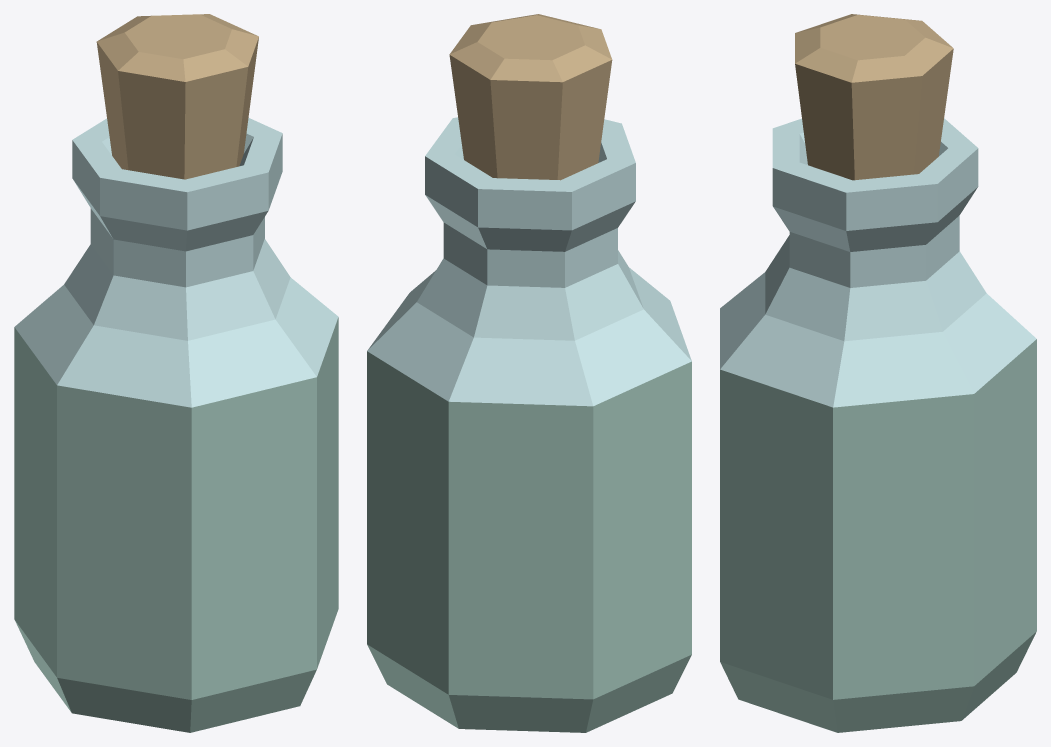
Rendered from Super-Cola.fbx.
The picture shows the model from 3 angles, left to right: view 1: azimuth 30°, elevation 25°; view 2: azimuth 150°, elevation 25°; view 3: azimuth 270°, elevation 25°; orthographic projection.
Visible parts, largest first — view 1: Cylinder; view 2: Cylinder; view 3: Cylinder.
Part boxes in pixels (<box>): Cylinder: <box>14,14,338,732</box>; Cylinder: <box>367,14,691,732</box>; Cylinder: <box>720,14,1036,732</box>.
Size of the model in its own units: 222 by 479 by 216.
